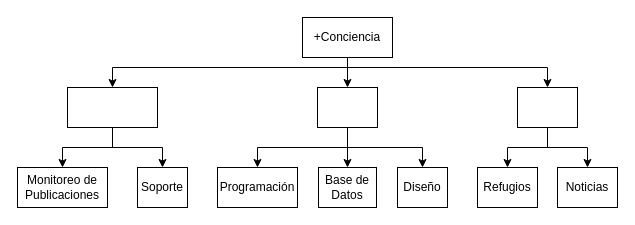
Some shapes in this 635 by 225 pixel diagram are drawn without their labels. The box of each missing label's shape, as (x1, y1, x2, y2) in pixels:
Administración: (66, 86, 158, 128)
Desarrollo: (316, 86, 378, 128)
Servicios: (516, 86, 578, 128)
